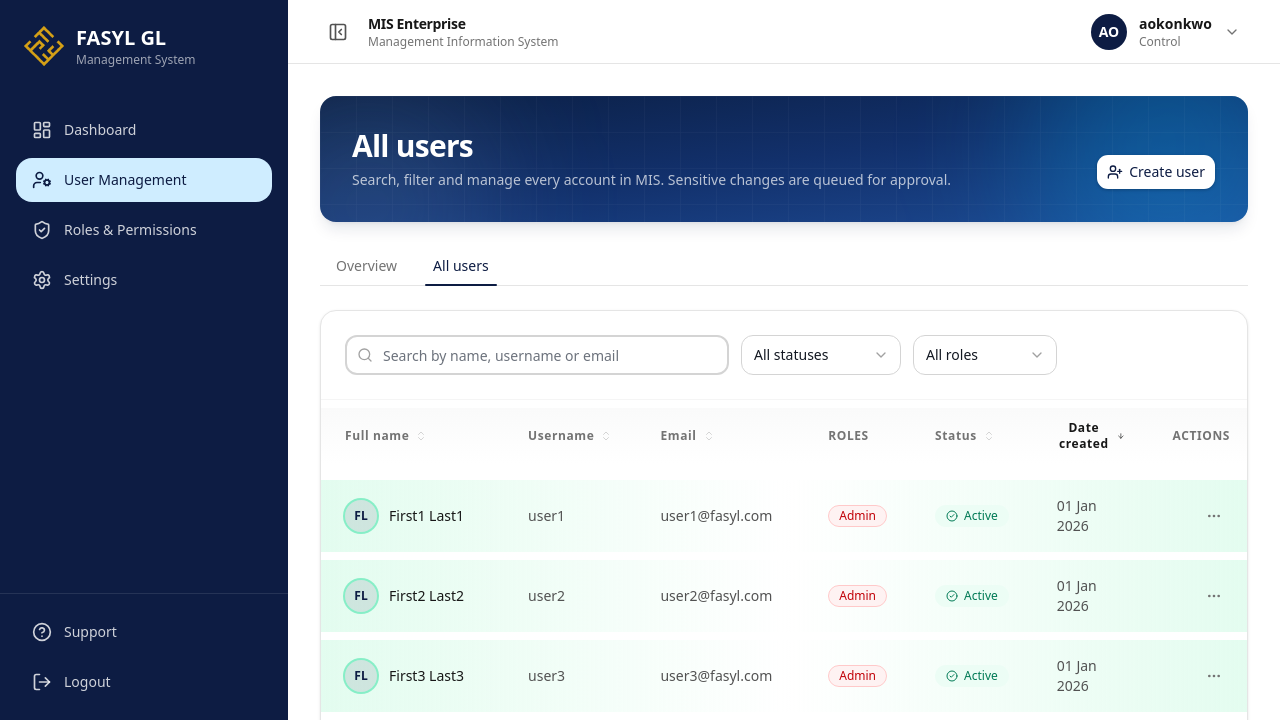
Test: app smoke › lets a CONTROL user email a newly created user's login credentials
The width and height of the screenshot is (1280, 720).
Click the button named "Actions for First2 Last2": (1214, 596) [1198, 580, 1230, 612]
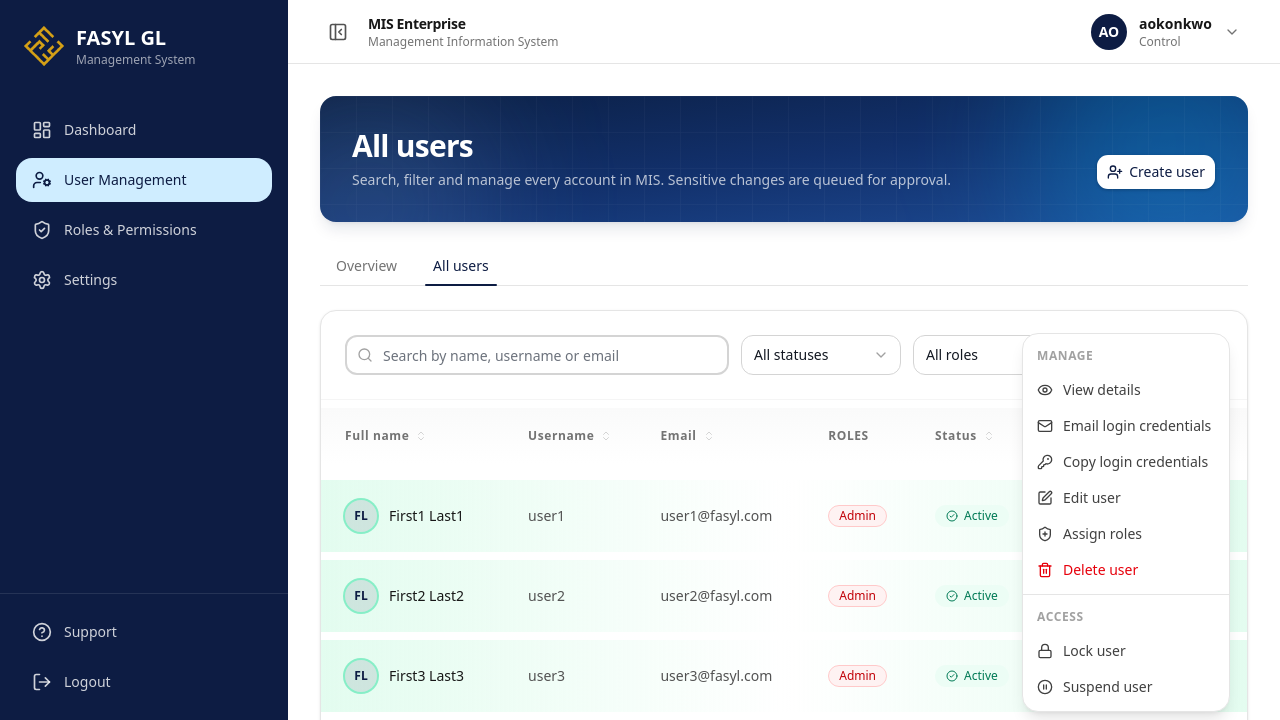
Result: the menu is shown at [1022, 333, 1230, 712]
